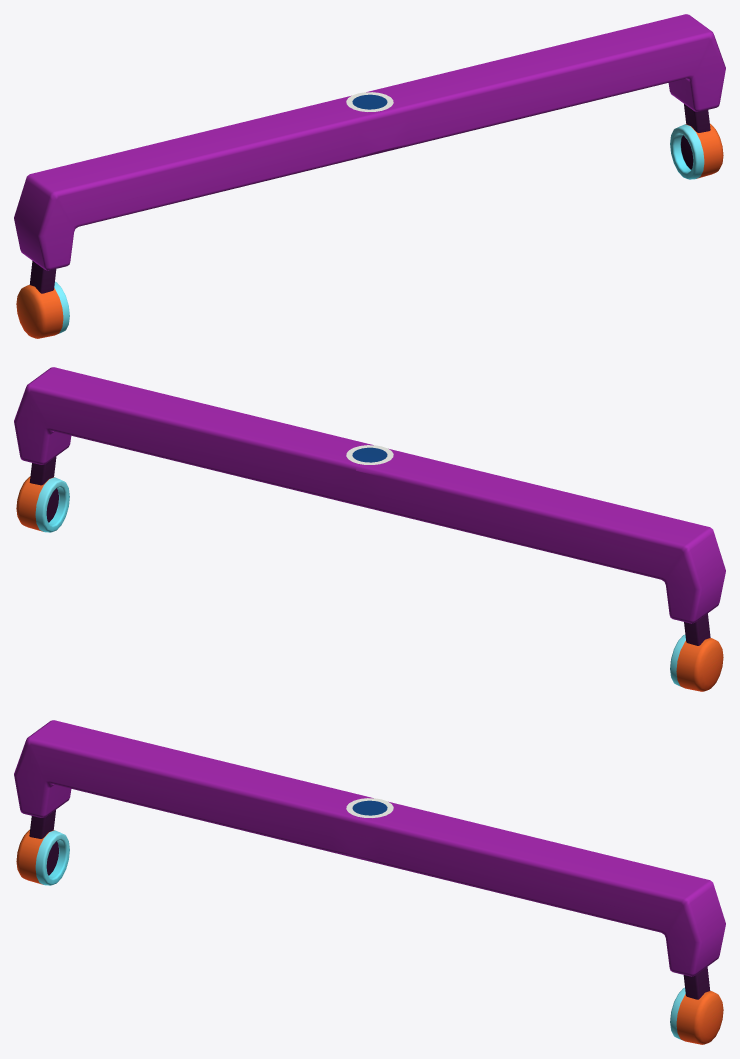
The picture shows the model from 3 angles, top to bottom: view 1: azimuth 30°, elevation 25°; view 2: azimuth 150°, elevation 25°; view 3: azimuth 330°, elevation 25°; orthographic projection.
Parts seen in each view (by area): view 1: shape2_8, top_cycle; view 2: shape2_8, top_cycle; view 3: shape2_8, top_cycle.
Part boxes in pixels (box(x1,y1,x2,y2)): shape2_8: box(14, 14, 725, 338); top_cycle: box(346, 92, 393, 111); shape2_8: box(14, 367, 725, 691); top_cycle: box(346, 445, 393, 464); shape2_8: box(14, 720, 725, 1044); top_cycle: box(346, 798, 393, 817).
Size of the model in its own units: 70.93 by 15.06 by 5.
